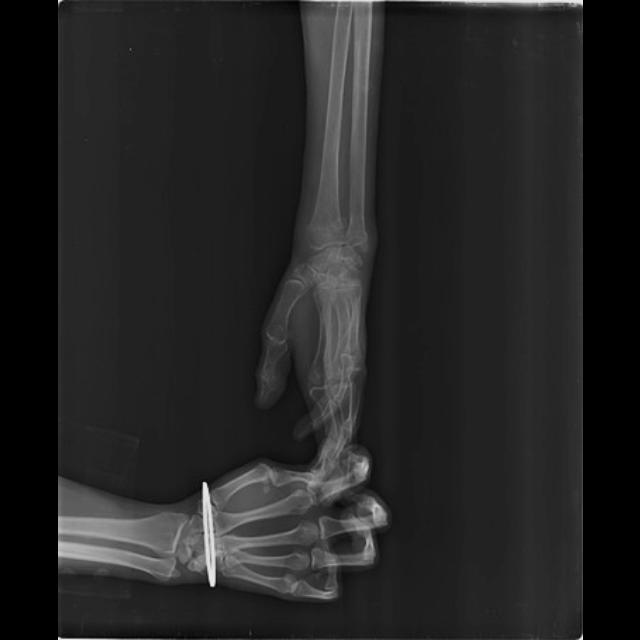fractured: (301, 213, 350, 252), (342, 223, 371, 255)
